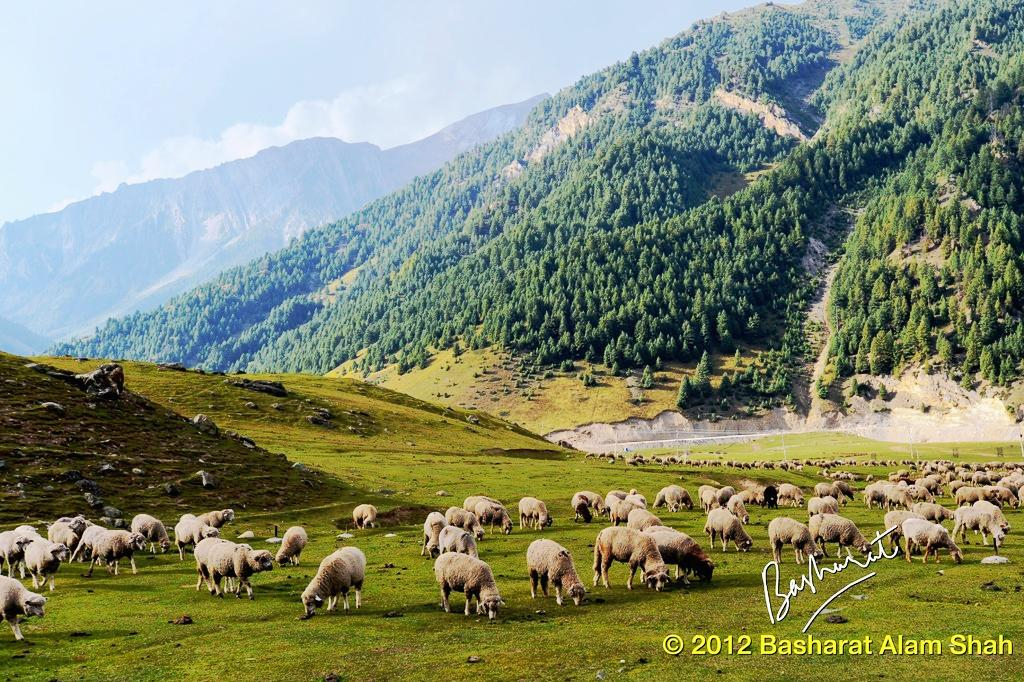Sheep: (290, 553, 370, 621), (593, 526, 669, 593), (433, 550, 502, 620), (193, 537, 261, 598), (643, 526, 713, 584), (525, 541, 579, 608), (0, 573, 48, 643), (81, 528, 147, 577), (900, 517, 964, 563), (811, 512, 872, 560), (951, 503, 1010, 551), (20, 537, 70, 591), (768, 516, 823, 564), (704, 509, 754, 551), (882, 509, 929, 551), (0, 529, 36, 579), (48, 516, 87, 561), (464, 496, 510, 534), (174, 516, 213, 559), (131, 514, 172, 554), (438, 524, 478, 559), (275, 526, 309, 567), (607, 495, 645, 527), (421, 512, 448, 557), (445, 507, 482, 538), (520, 497, 552, 531), (654, 485, 691, 513), (571, 490, 603, 522), (196, 508, 235, 530), (808, 496, 839, 518), (618, 491, 647, 509), (353, 506, 379, 526), (699, 487, 718, 513), (747, 486, 767, 506)
